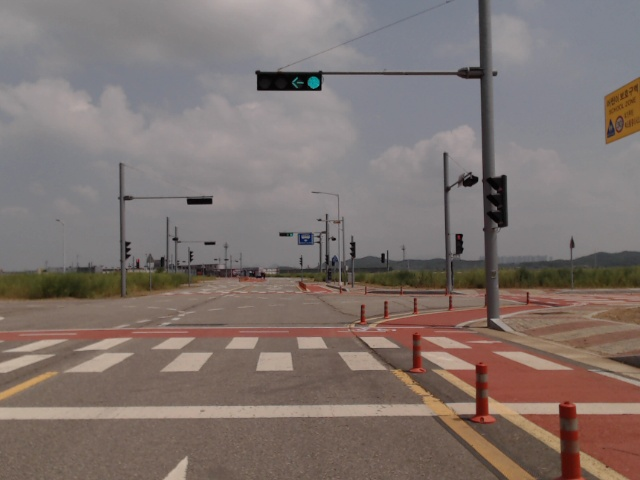all_green_4: (255, 71, 323, 91), (279, 232, 293, 237)
